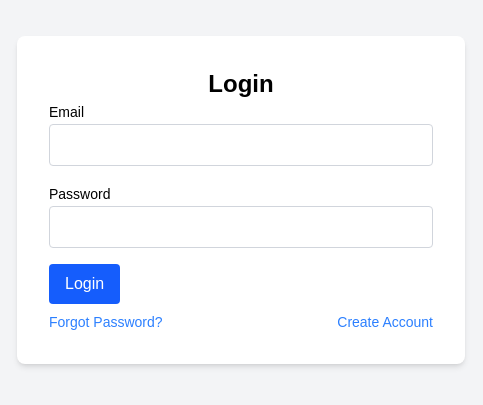
LoginForm Component › shows validation errors for empty fields
Click the submit button at (85, 284), box top-left (49, 264), bottom-right (120, 304)
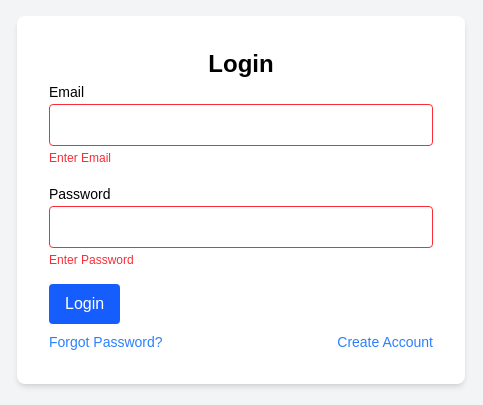
expect the text "Enter Email" is shown: met, box top-left (49, 151), bottom-right (111, 165)
expect the text "Enter Password" is shown: met, box top-left (49, 253), bottom-right (134, 267)
